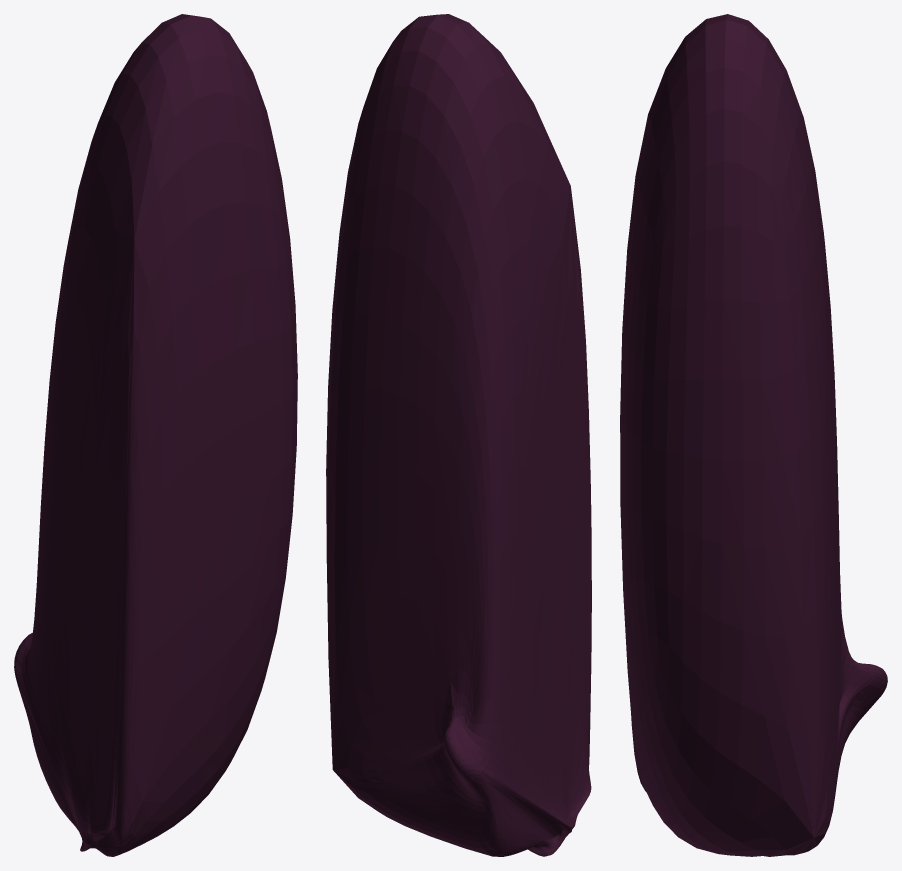
3 renders of one model, left to right at view 1: azimuth 30°, elevation 25°; view 2: azimuth 150°, elevation 25°; view 3: azimuth 270°, elevation 25°, orthographic. The views are drawn at different scales.
Visible parts, largest first — view 1: 105_Cube.442; view 2: 105_Cube.442; view 3: 105_Cube.442.
Boxes of the visible parts, box(x1,y1,x2,y2) form: 105_Cube.442: box(14, 14, 297, 856); 105_Cube.442: box(326, 14, 591, 856); 105_Cube.442: box(620, 14, 887, 856).
Size of the model in its own units: 3.09 by 11.12 by 3.12.
